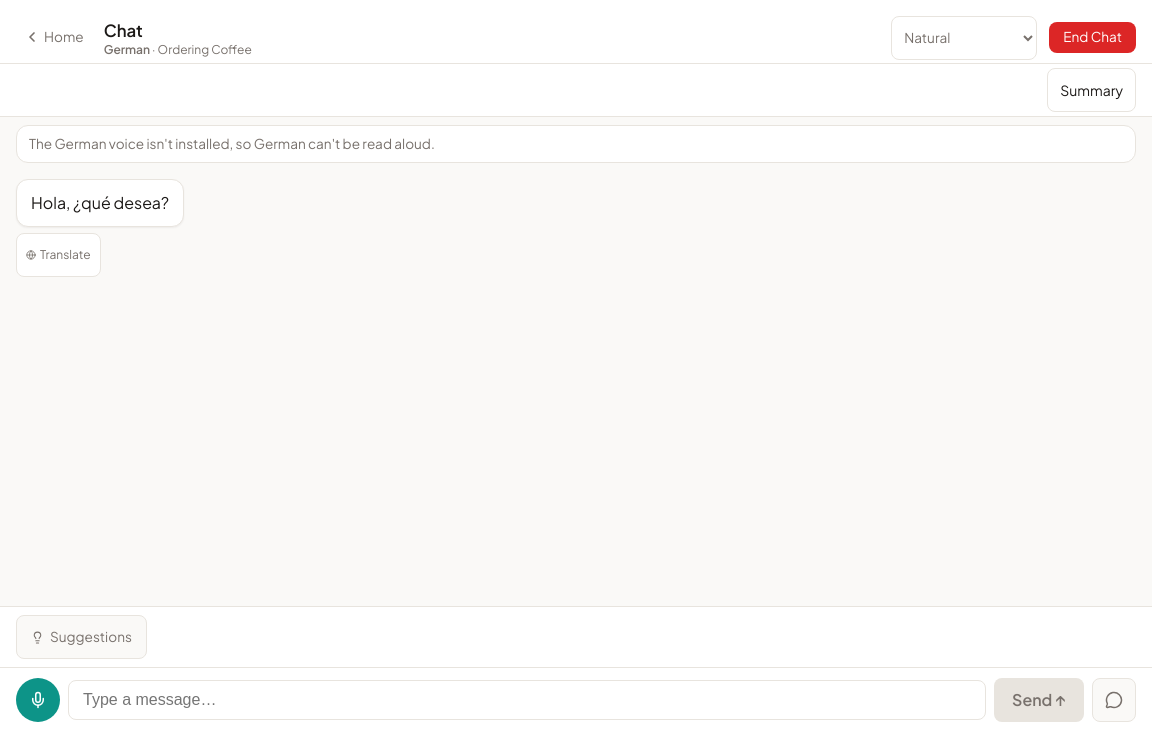
Test: Chat — the conversation keeps its own language (006 US1) › with the German voice missing, says so and plays nothing
Check: the message reads "The German voice isn't installed, so German can't be read aloud.", box 29,135 -> 435,152
Type "Guten Tag" into the field labelled "Type a message".
click(527, 700); type("Guten Tag")  # box 68,680 -> 986,720
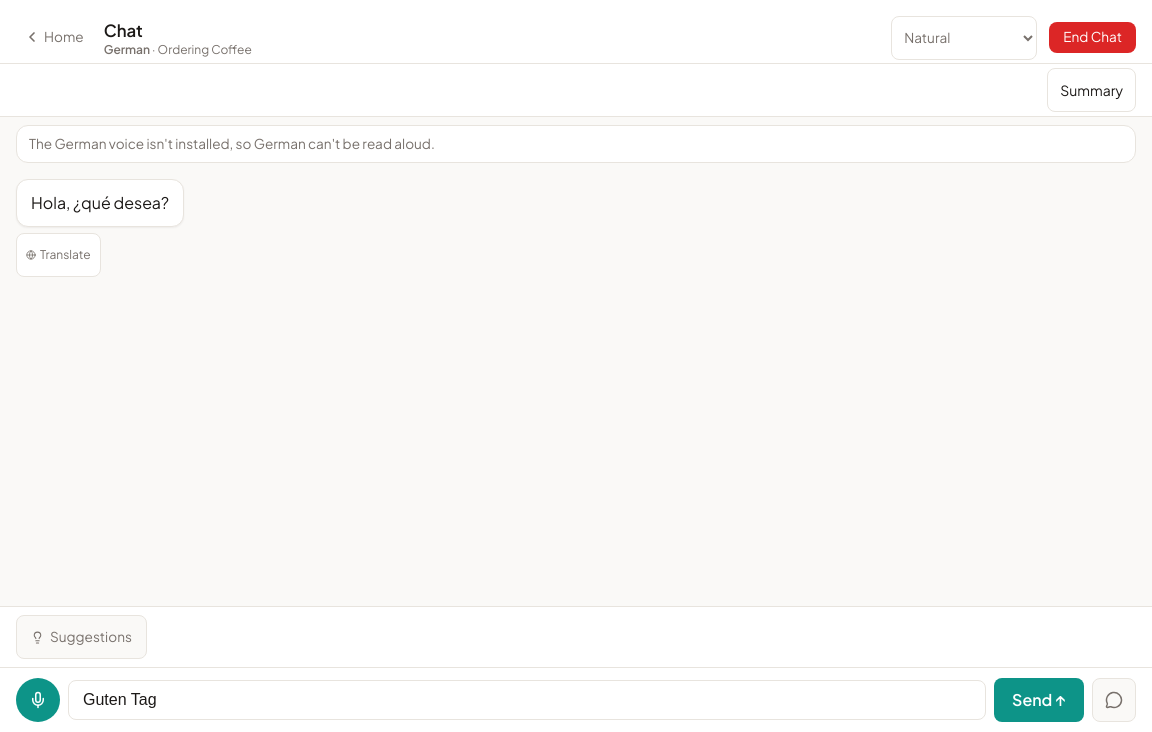
Click the button with aria-label "Send message".
click(1039, 700)  # box 994,678 -> 1084,722
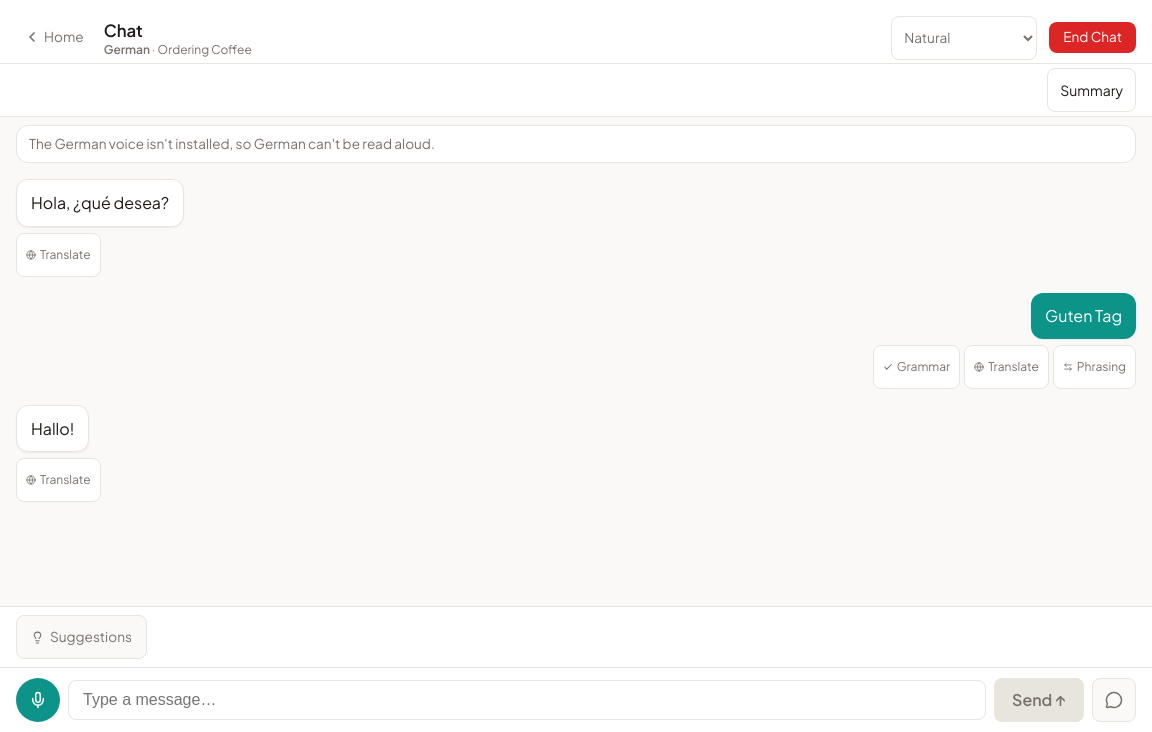
Check: the text "Hallo!" is shown, box 31,418 -> 74,439
